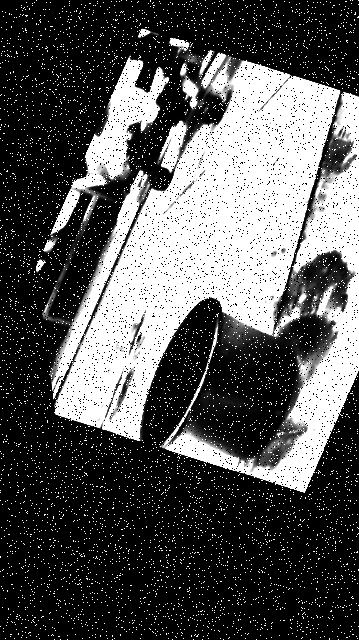pot: (139, 299, 294, 458)
